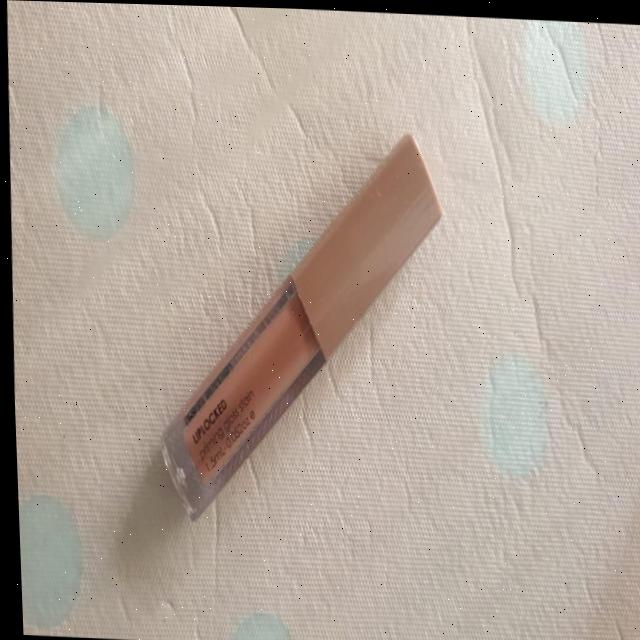lip gloss: (115, 87, 463, 571)
